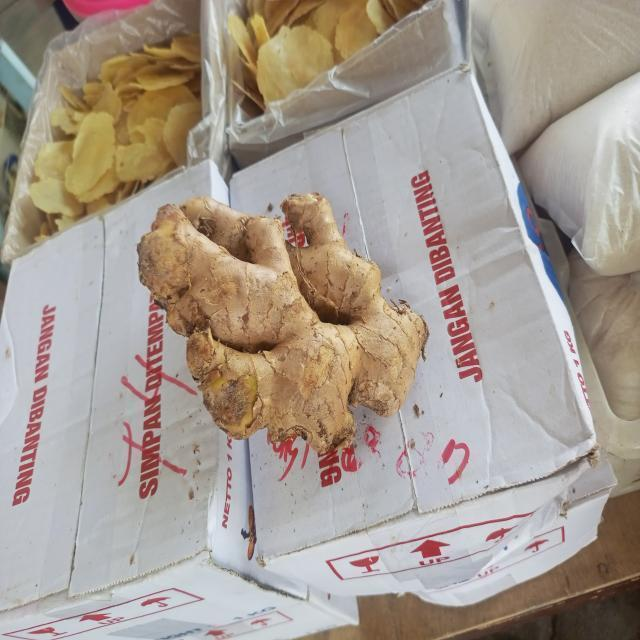ginger: (148, 203, 428, 447)
